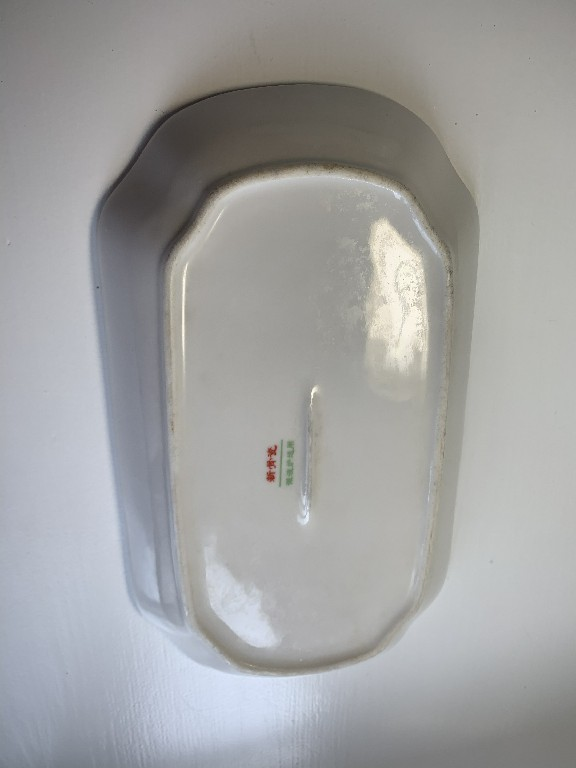ceramics: (82, 78, 494, 683)
